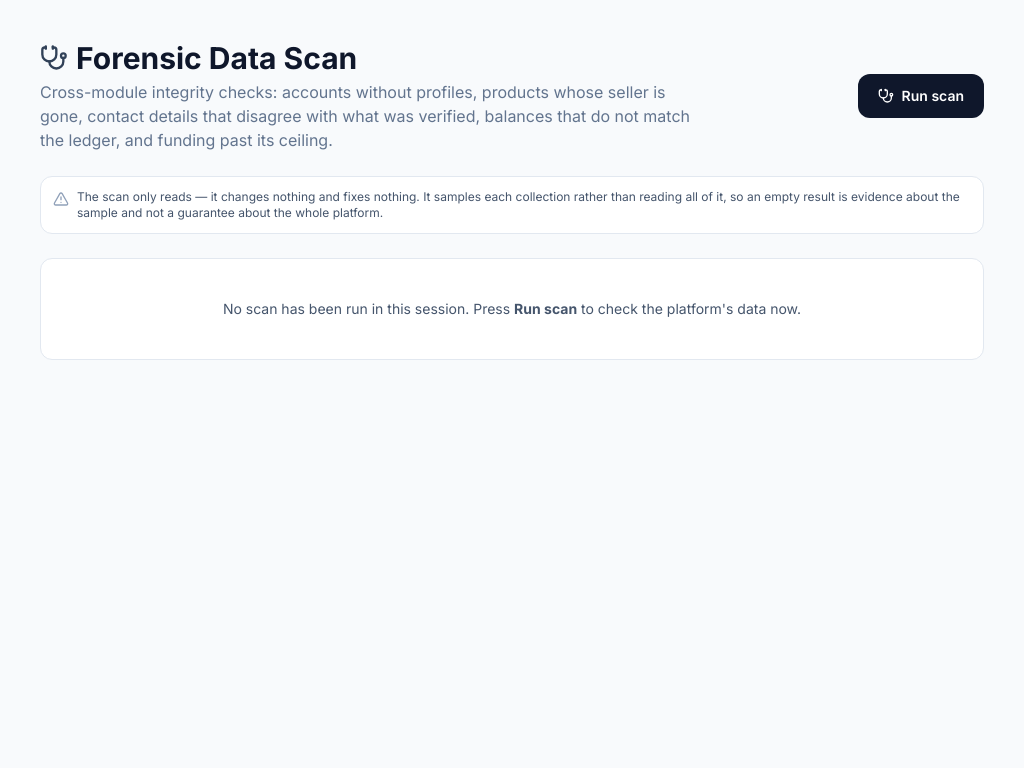
Test: #475 — the one finding is not buried › AND THE 189 ARE STILL SHOWN — hiding them is the other failure
This screenshot has width=1024, height=768.
Click the button "Run scan": (921,96) [858,74,984,118]
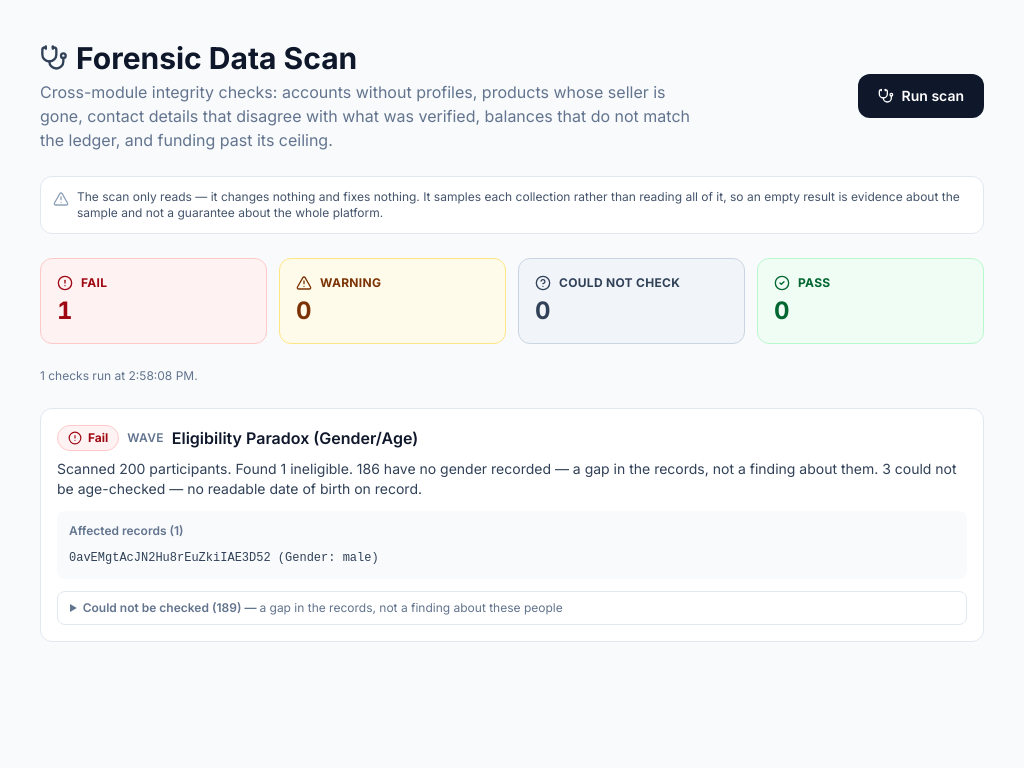
Check: the heading "Could not be checked (189)" is shown, box [83,600,563,615]
